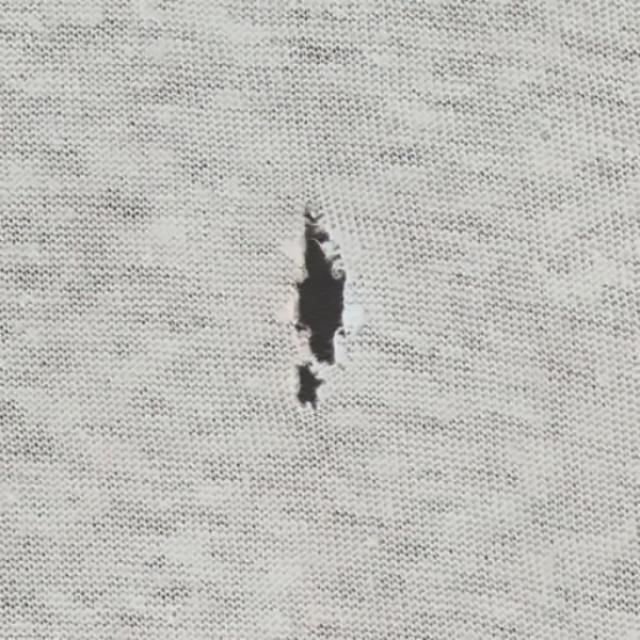other: (288, 204, 352, 412)
